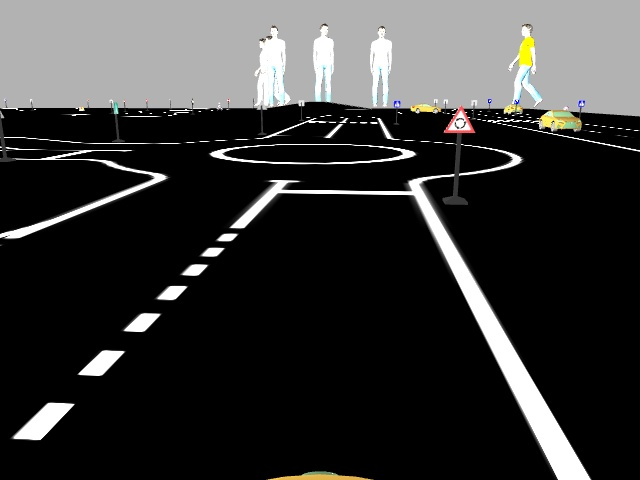Roundabout: (442, 103, 476, 137)
